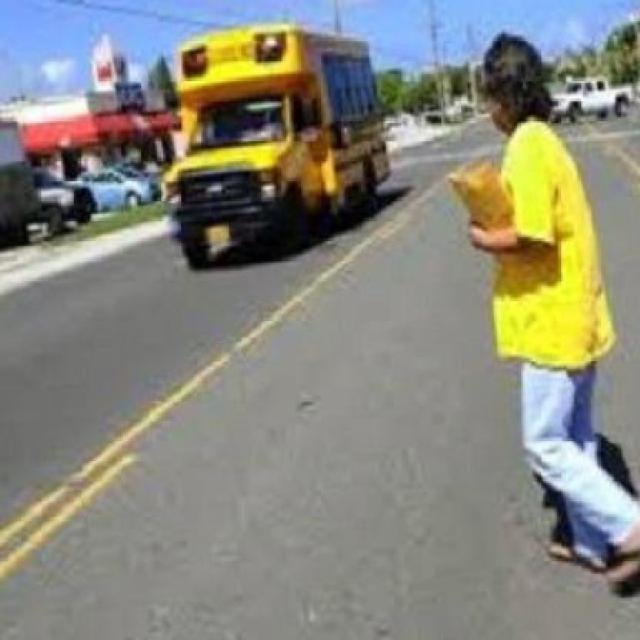Person: (454, 25, 638, 600)
